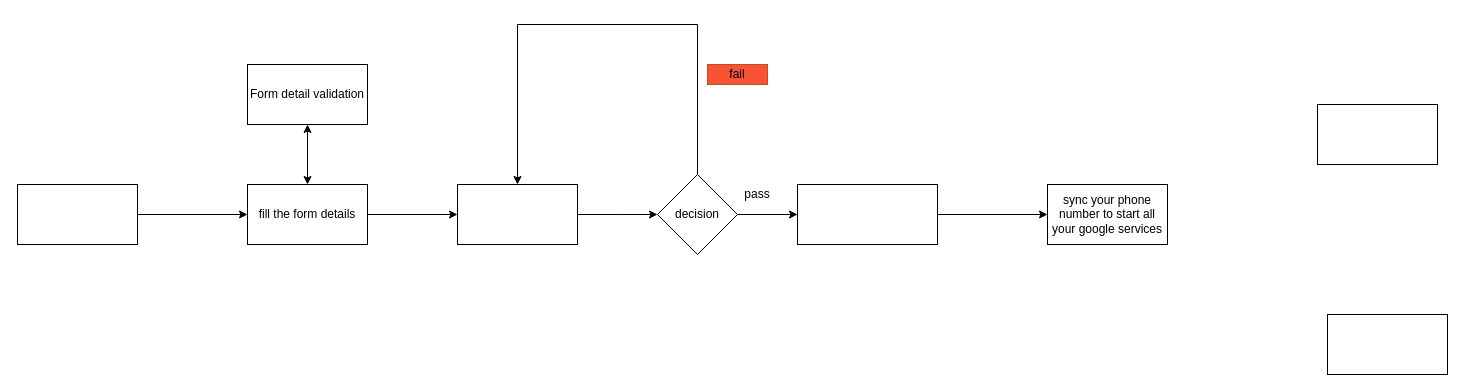
Image size: 1465x392. Some labels were removed from this diagram. Here are the shapes that lost their labels. From the top down, the centre of each, then its label:
At [77,214]: "Create Account For Myself".
At [517,214]: "enter mobile number for otp validation".
At [867,214]: "enter recovery details".
